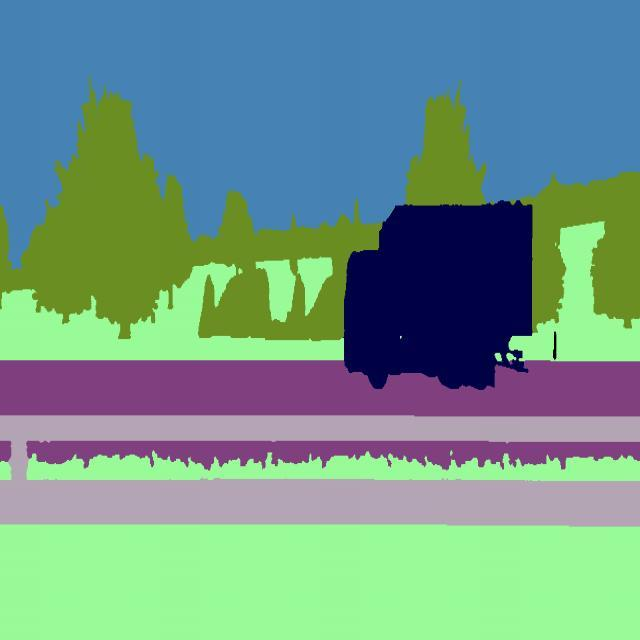safe: (337, 190, 535, 393)
